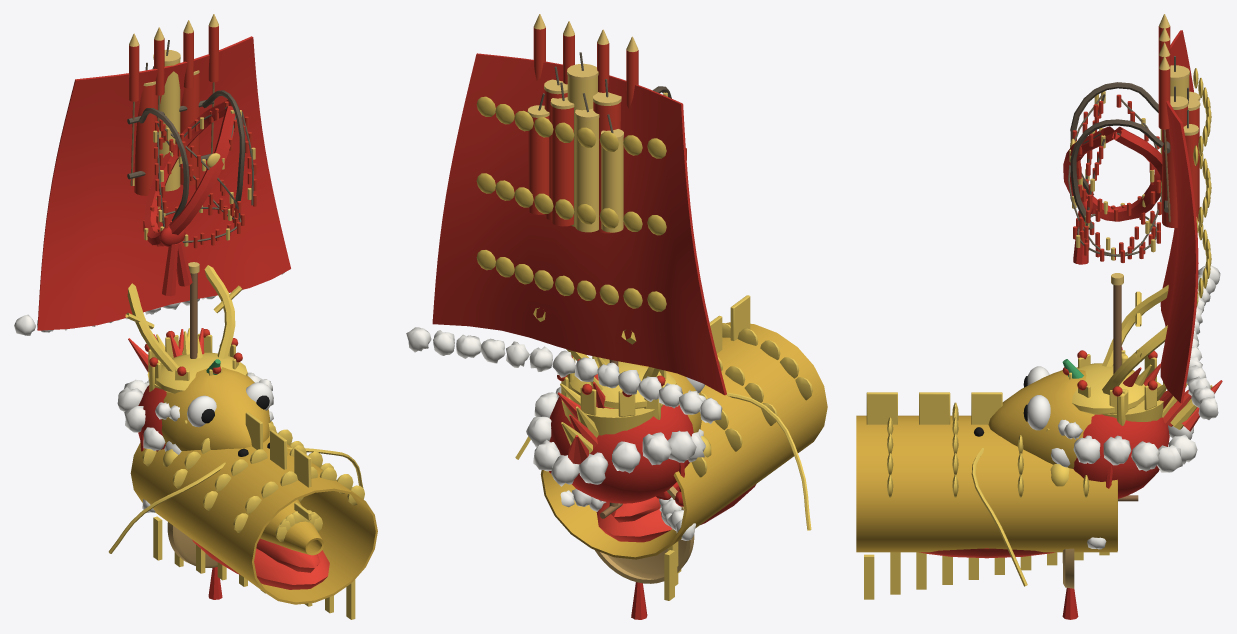
The model's file is festzombie.glb.
The picture shows the model from 3 angles, left to right: view 1: azimuth 30°, elevation 25°; view 2: azimuth 150°, elevation 25°; view 3: azimuth 270°, elevation 25°; orthographic projection. The views are drawn at different scales.
Visible parts, largest first — view 1: lion_cloak, dragon_body, dragon_head, firework_pack, lion_head, red_sash, firecracker_wrap, dragon_tail, boss_crown, gong, dragon_pole; view 2: lion_cloak, dragon_body, firework_pack, lion_head, dragon_tail, dragon_head, boss_crown, gong; view 3: dragon_body, lion_cloak, dragon_head, lion_head, firework_pack, firecracker_wrap, red_sash, boss_crown, dragon_pole, gong.
Part boxes in pixels (<box>): lion_cloak: <box>14,36,290,335</box>; dragon_body: <box>130,412,377,619</box>; dragon_head: <box>108,265,363,553</box>; firework_pack: <box>127,14,245,221</box>; lion_head: <box>117,344,277,512</box>; red_sash: <box>144,100,236,296</box>; firecracker_wrap: <box>143,101,256,248</box>; dragon_tail: <box>256,497,324,572</box>; boss_crown: <box>140,329,242,451</box>; gong: <box>167,522,222,599</box>; dragon_pole: <box>188,262,199,358</box>; lion_cloak: <box>406,53,726,423</box>; dragon_body: <box>596,295,827,600</box>; firework_pack: <box>527,14,671,233</box>; lion_head: <box>526,359,711,540</box>; dragon_tail: <box>540,470,686,559</box>; dragon_head: <box>515,307,811,530</box>; boss_crown: <box>549,355,684,506</box>; gong: <box>595,486,694,619</box>; dragon_body: <box>856,392,1117,599</box>; lion_cloak: <box>1160,30,1220,419</box>; dragon_head: <box>971,285,1222,586</box>; lion_head: <box>1046,353,1197,549</box>; firework_pack: <box>1070,14,1200,229</box>; firecracker_wrap: <box>1068,91,1161,262</box>; red_sash: <box>1063,126,1162,264</box>; boss_crown: <box>1062,347,1165,488</box>; dragon_pole: <box>1111,273,1123,373</box>; gong: <box>1062,548,1078,619</box>.
Size of the model in its own units: 1.29 by 2.46 by 1.4.
